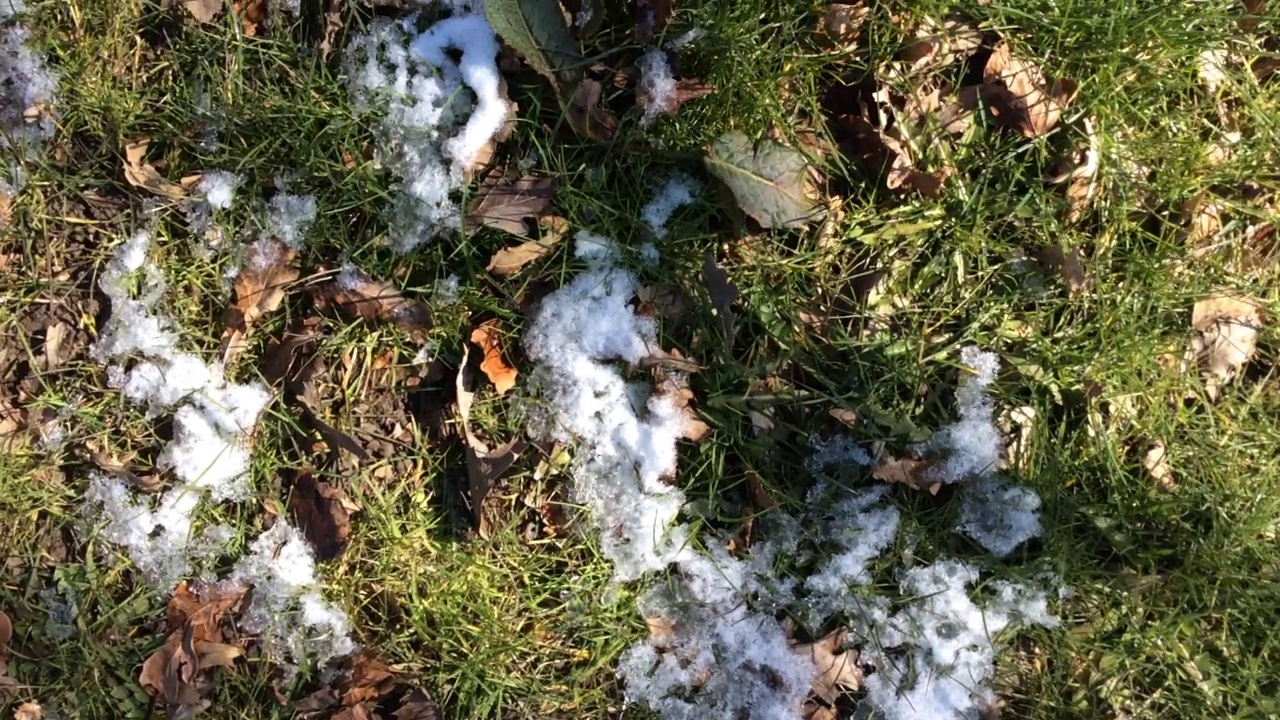root: (576, 94, 688, 178)
rumex: (483, 1, 831, 240)
